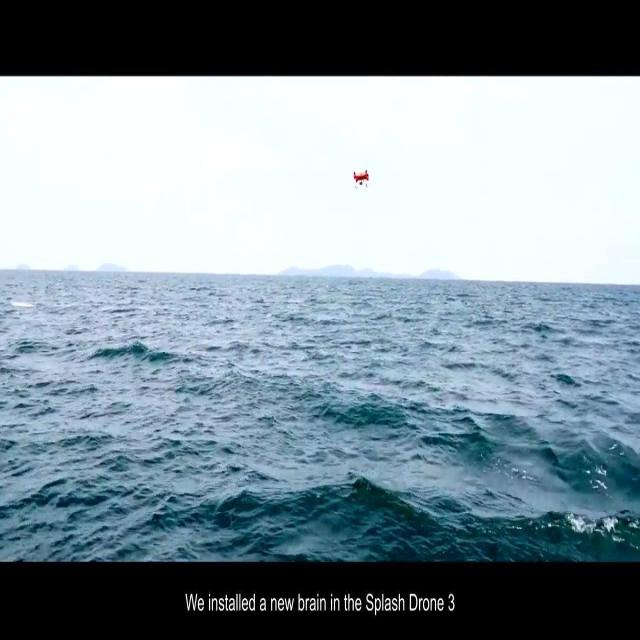drone: (352, 166, 370, 192)
